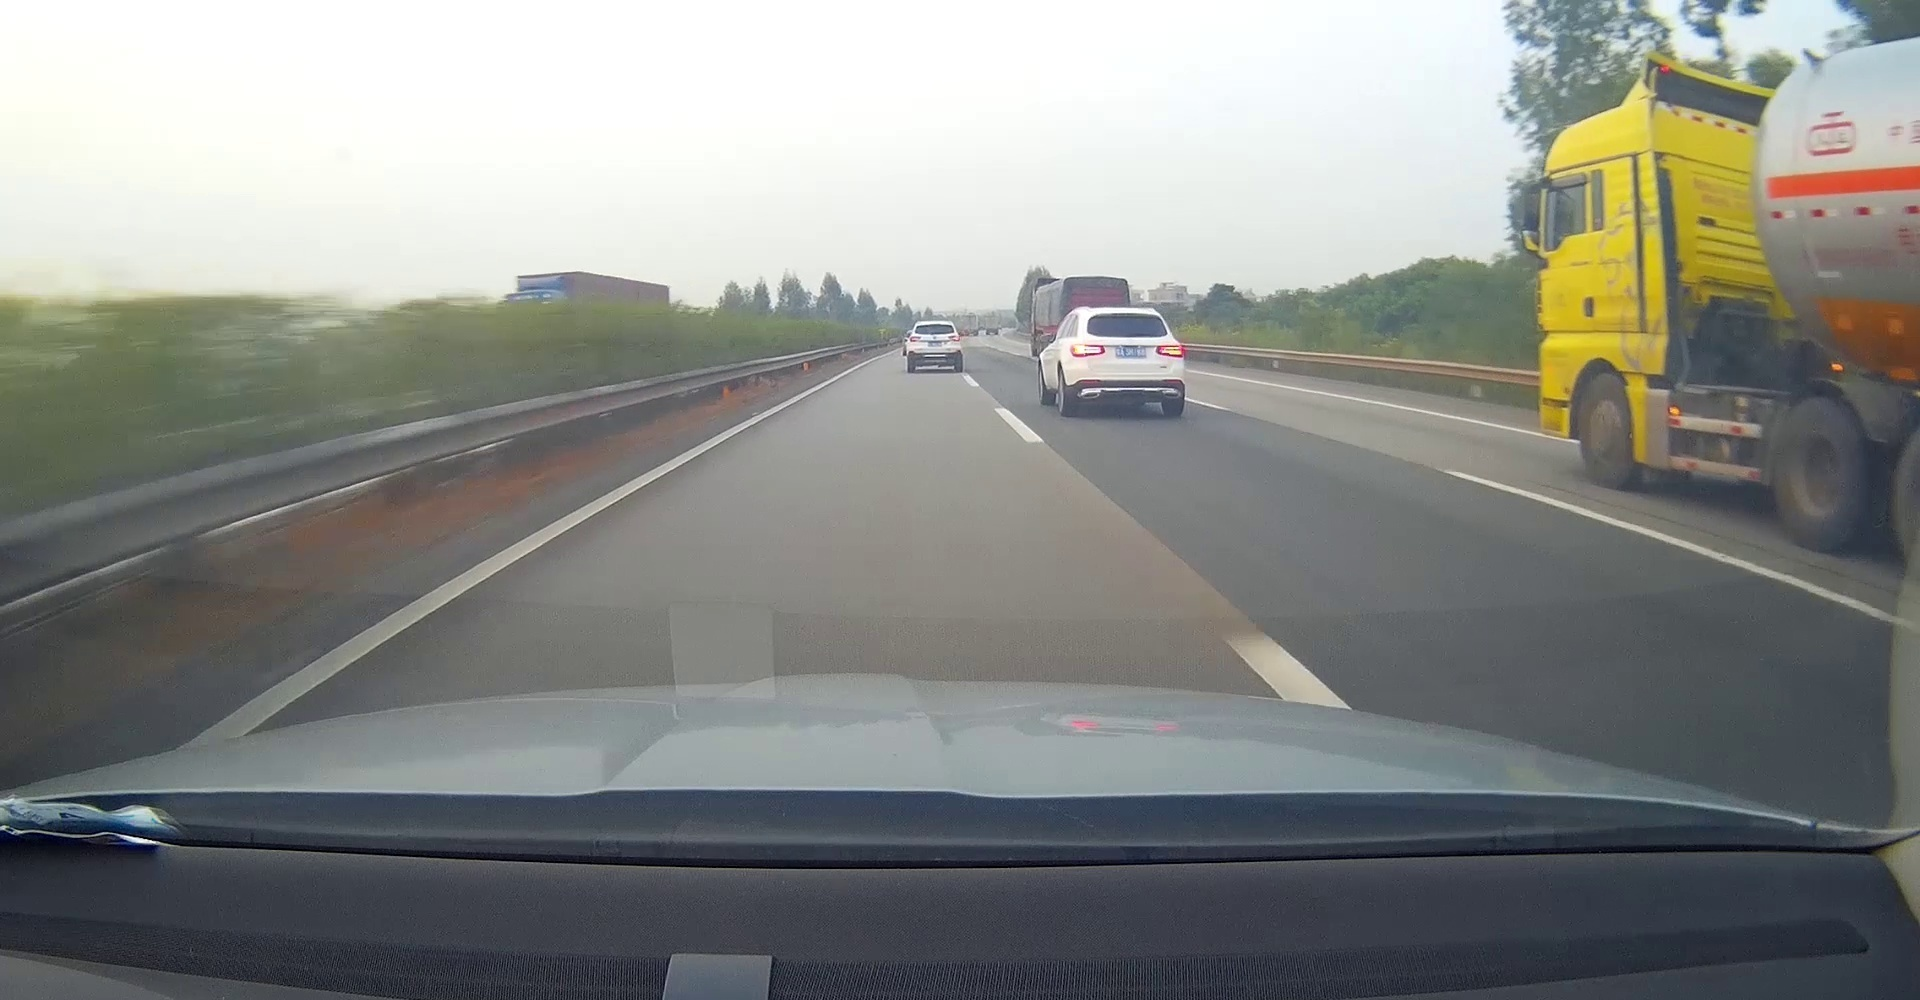L_light: (1070, 343, 1106, 357), (910, 336, 922, 341)
R_light: (1156, 344, 1183, 358), (949, 335, 961, 341)
T_light: (1115, 346, 1147, 358), (1112, 312, 1135, 316), (930, 324, 941, 326)
day-no: (1067, 308, 1185, 418), (905, 320, 963, 373)
